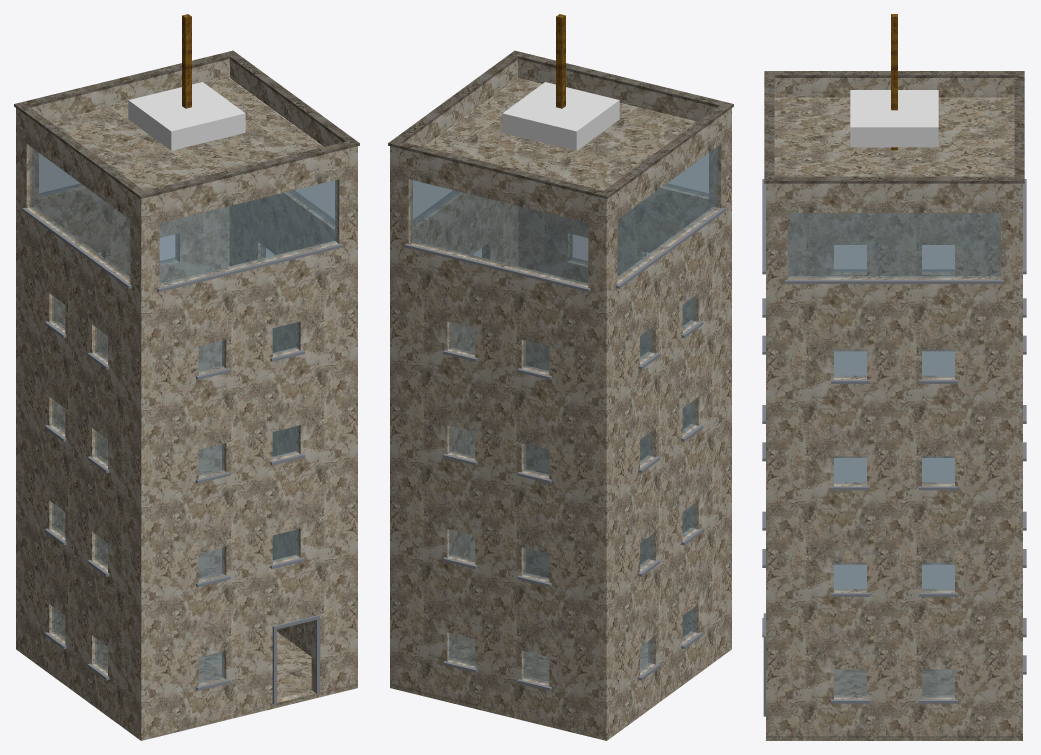
File: control-tower.loc-v1.lod1.glb
3 views of the same model, side by side, from view 1: azimuth 30°, elevation 25°; view 2: azimuth 150°, elevation 25°; view 3: azimuth 270°, elevation 25° (orthographic). The views are drawn at different scales.
Visible parts, largest first — view 1: control-tower; view 2: control-tower; view 3: control-tower.
Boxes of the visible parts, box(x1,y1,x2,y2) form: control-tower: box(14, 14, 359, 740); control-tower: box(388, 14, 733, 740); control-tower: box(762, 14, 1026, 740).
Size of the model in its own units: 7.2 by 20.15 by 7.2.
4 materials, 2 textured.
